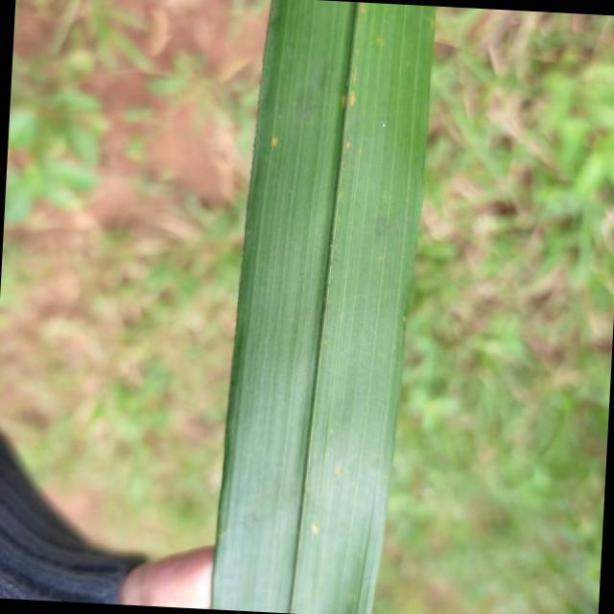Kalium: (210, 0, 436, 614)
